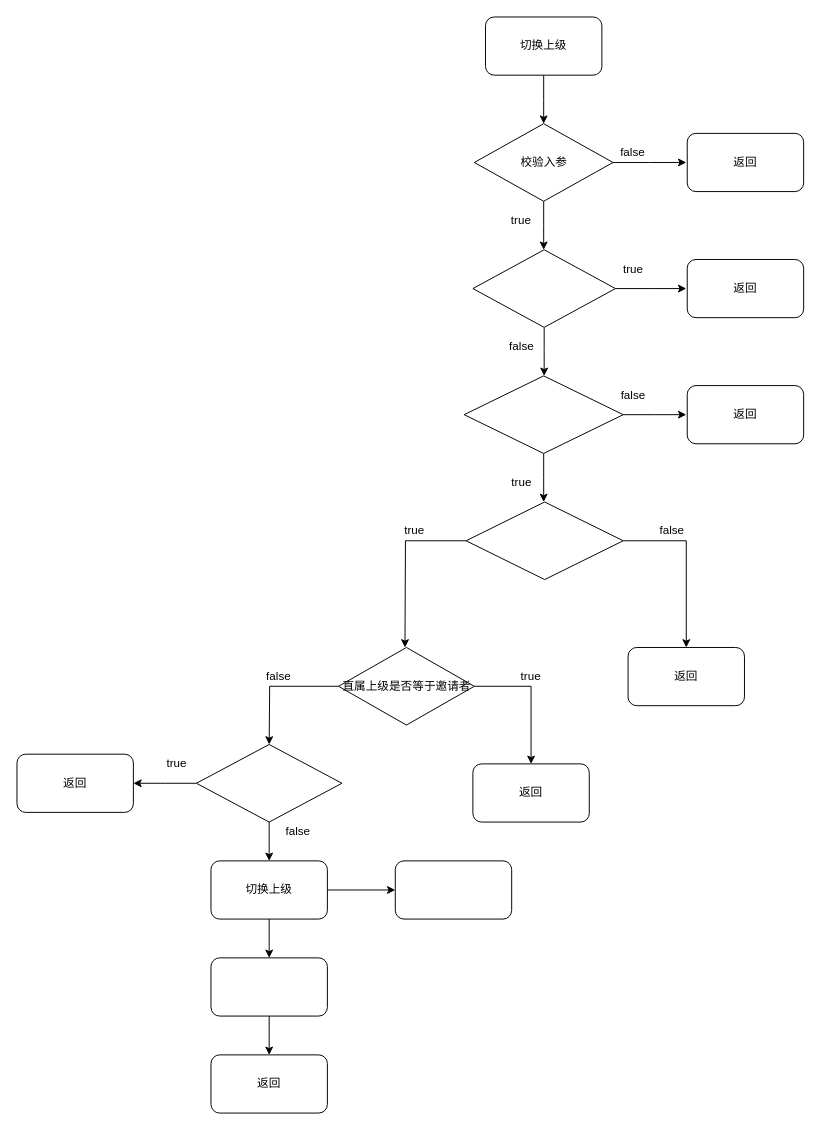
The diagram is 821 pixels wide and 1130 high, and some of its shapes have lost their labels. Each missing label, with the centre of its shape:
判断是否已经切换过两次: pixel 268 783
判断被邀请人是否存在绑定关系: pixel 544 540
发送拉新mq: pixel 453 889
查询（被邀请人）缓存、分布式互斥锁: pixel 543 414
校验是否是美店主: pixel 543 288
记录切换次数: pixel 268 986
